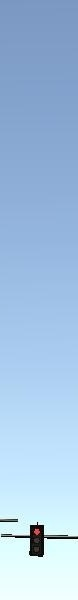Red: (30, 525, 45, 557)
